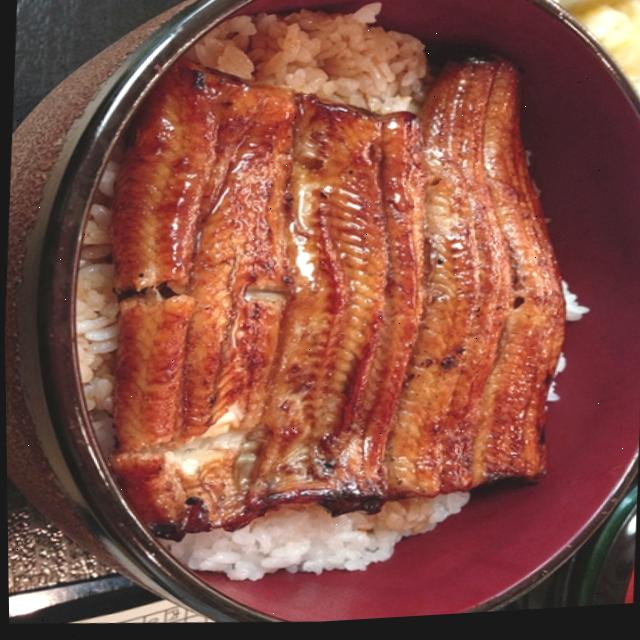熟制海鲜: (11, 0, 640, 639)
